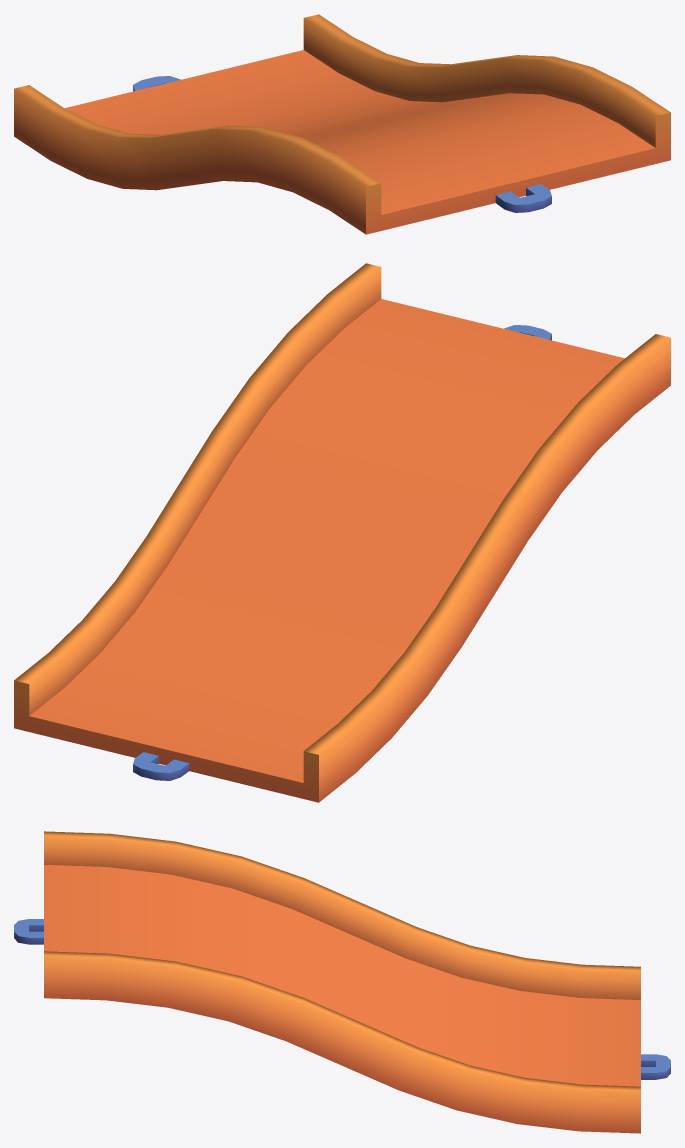
Rendered from kenney-toy-car-track-wide-straight-hill-complete.glb.
The picture shows the model from 3 angles, top to bottom: view 1: azimuth 30°, elevation 25°; view 2: azimuth 150°, elevation 25°; view 3: azimuth 270°, elevation 25°; orthographic projection. The views are drawn at different scales.
Visible parts, largest first — view 1: track-wide-straight-hill-complete; view 2: track-wide-straight-hill-complete; view 3: track-wide-straight-hill-complete.
Part boxes in pixels (box(x1,y1,x2,y2)): track-wide-straight-hill-complete: box(14, 14, 670, 234); track-wide-straight-hill-complete: box(14, 263, 670, 802); track-wide-straight-hill-complete: box(14, 831, 670, 1133).
Size of the model in its own units: 2 by 1.3 by 4.4.
Materials: 1 (1 with a texture image).
